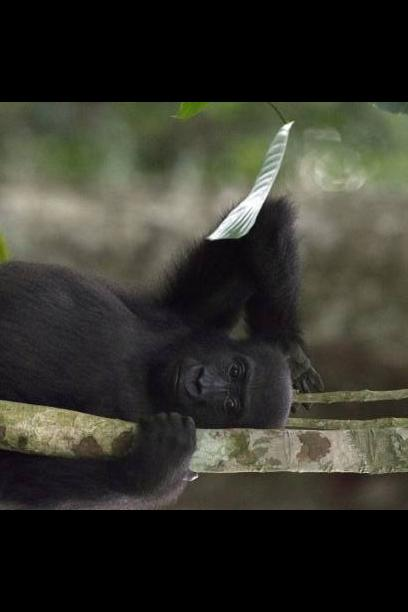gorille_Autres: (0, 192, 308, 509)
